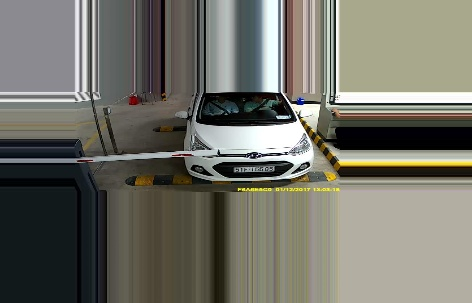plate: (232, 165, 276, 174)
